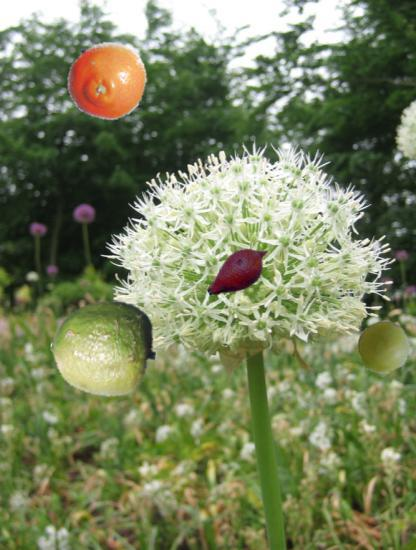Grape: (358, 321, 411, 374)
Limes: (51, 295, 156, 400)
Salak: (202, 235, 275, 308)
Tangelo: (66, 39, 148, 121)
